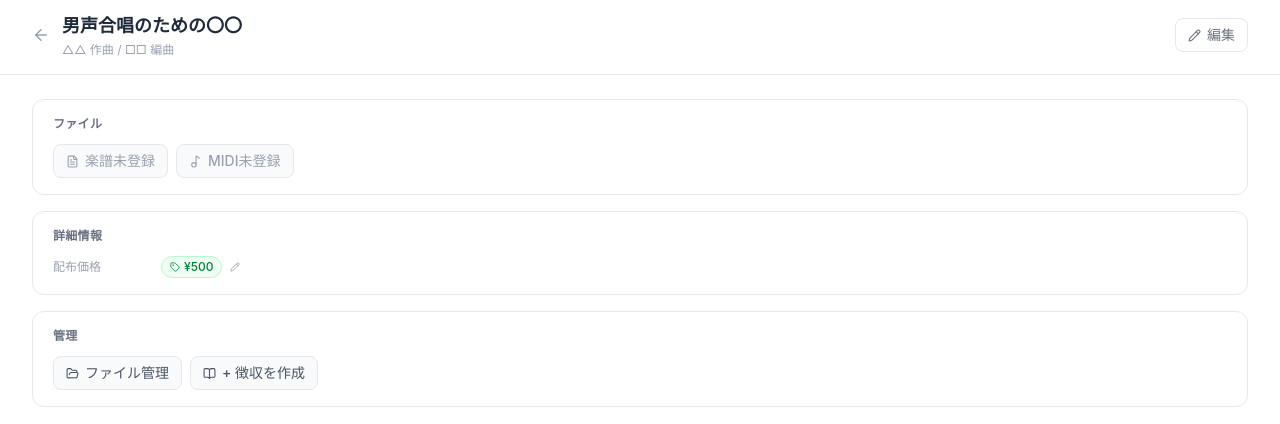
Test: ScoreDetailPage（配布価格インライン編集） › 鉛筆で入力欄に切り替わり、Enter で保存して鉛筆にフォーカスを戻す
Step 1. Click the button named "配布価格を編集" → [235, 267], box left=228, top=260, right=242, bottom=274
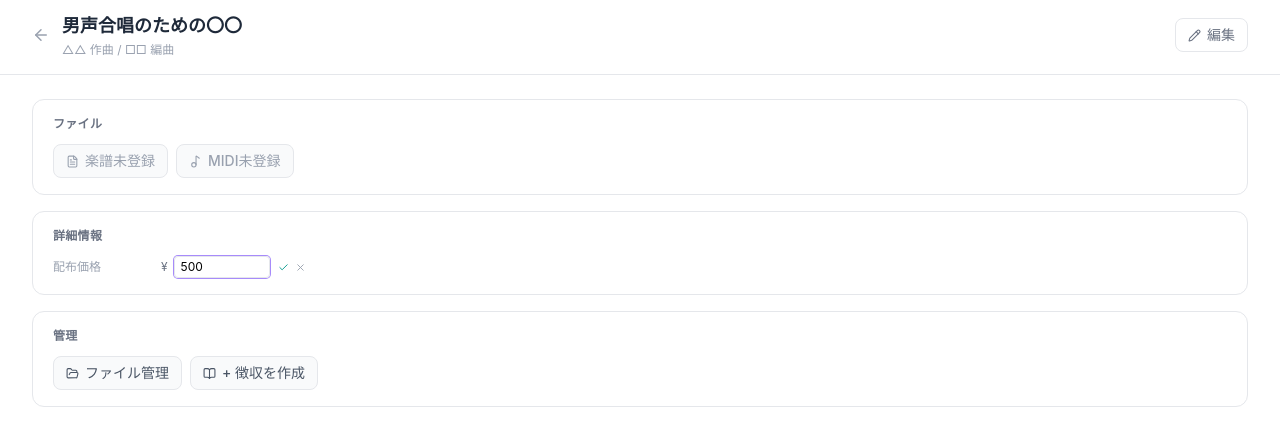
Step 2. Replace the text in the field named "配布価格" with "800" → [222, 267], box left=174, top=256, right=270, bottom=278
Then press Enter
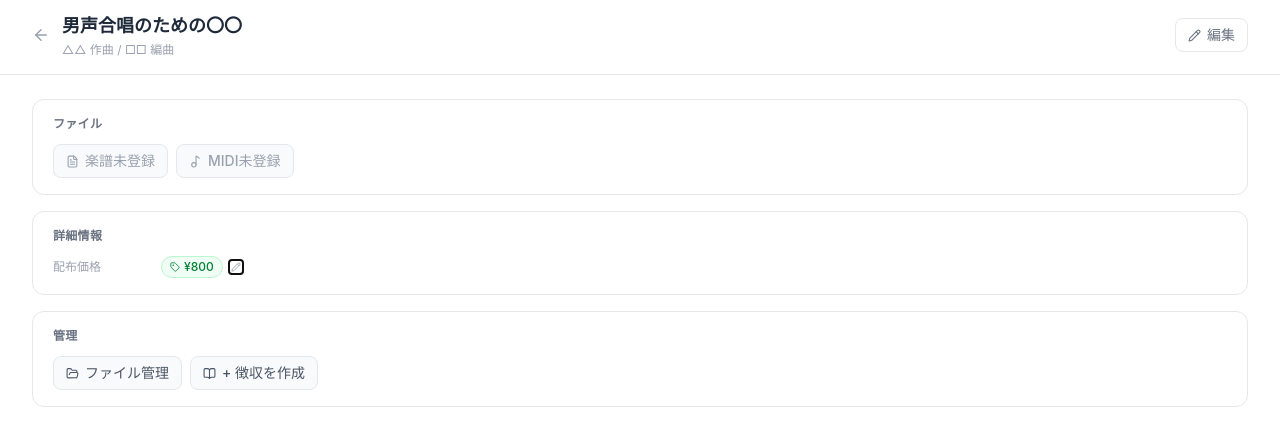
Expected: the text "¥800" is shown, left=161, top=256, right=223, bottom=278
